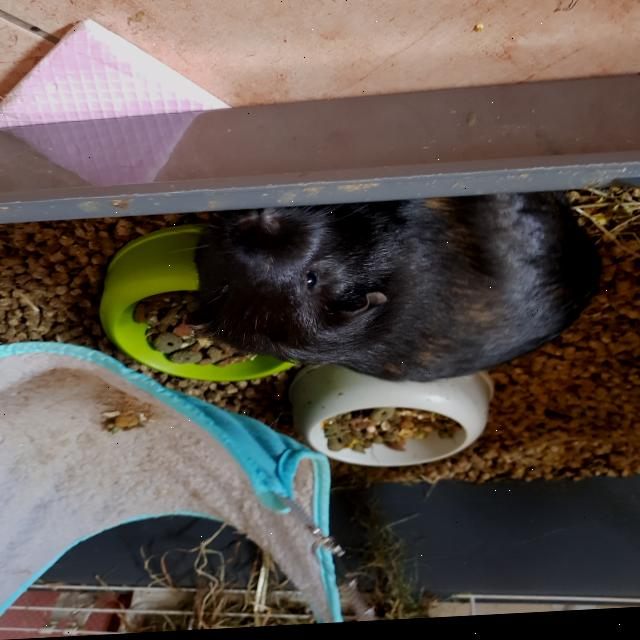guinea pig: (192, 174, 608, 399)
